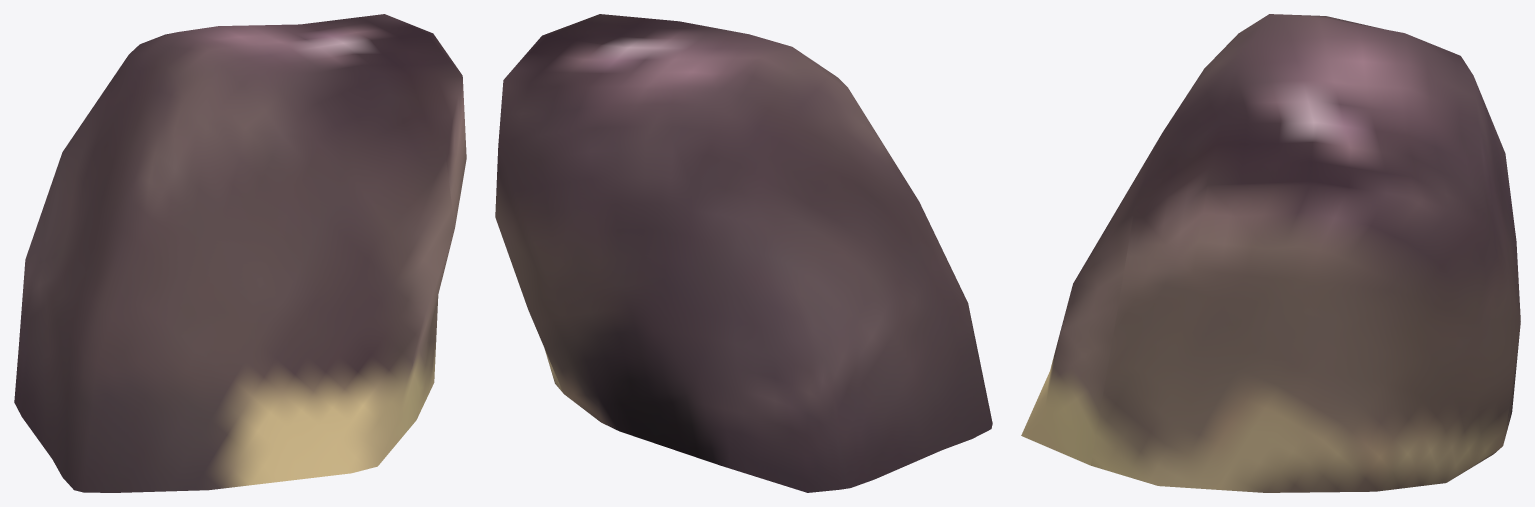
File: Beach_Rocks_7.glb
The picture shows the model from 3 angles, left to right: view 1: azimuth 30°, elevation 25°; view 2: azimuth 150°, elevation 25°; view 3: azimuth 270°, elevation 25°; orthographic projection. The views are drawn at different scales.
Parts seen in each view (by area): view 1: Object_2.036; view 2: Object_2.036; view 3: Object_2.036.
Part boxes in pixels (x1,y1,x2,y2): Object_2.036: [14, 14, 466, 492]; Object_2.036: [495, 14, 992, 492]; Object_2.036: [1021, 14, 1520, 492].
Bounding box in the file's own units: 3.27 × 2.79 × 2.98.
Materials: 1 (1 with a texture image).
